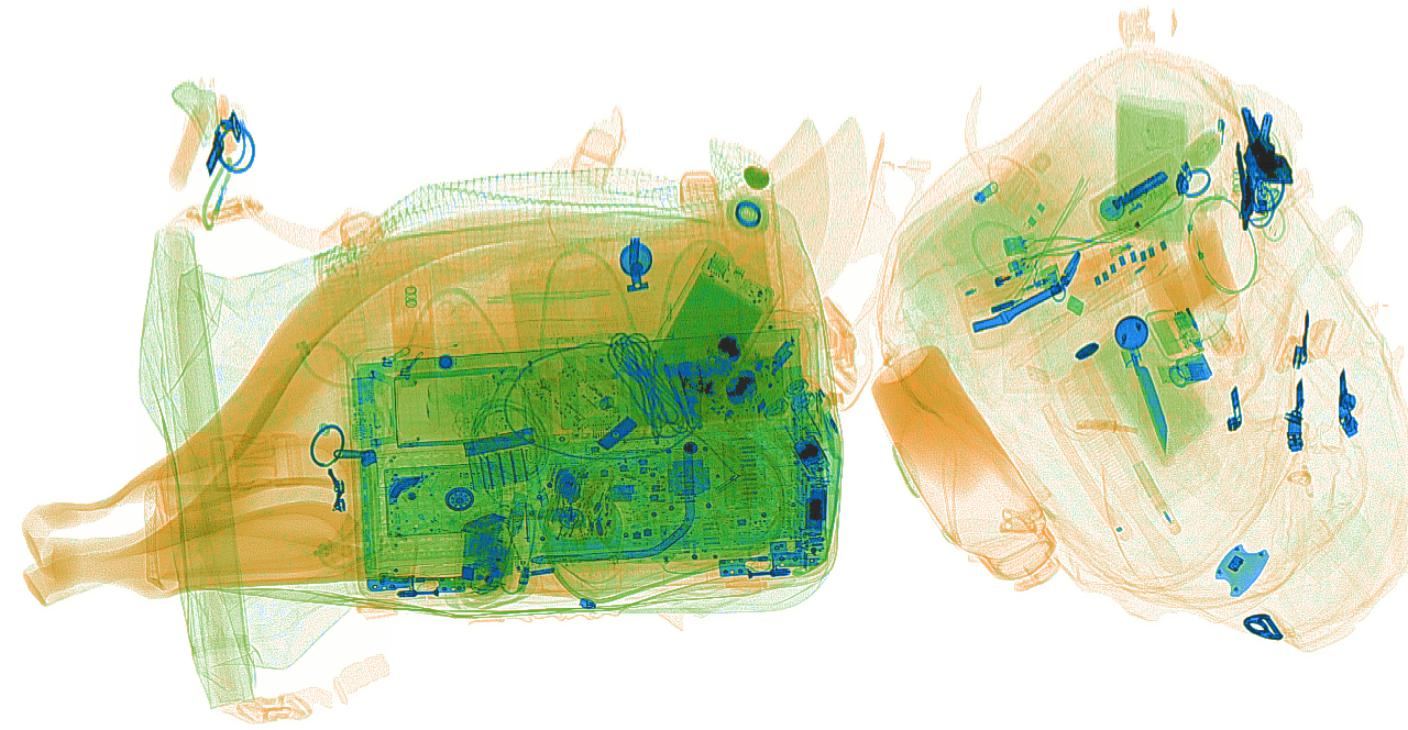USBFlashDisk: (1156, 349, 1215, 390)
battery: (802, 474, 829, 539)
knife: (1125, 342, 1169, 460)
lighter: (956, 248, 1064, 319)
plasticBottleWithaNozzle: (387, 269, 438, 385)
